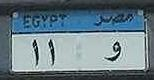1: (44, 37, 59, 67), (30, 38, 41, 68)
waw: (97, 38, 122, 63)
